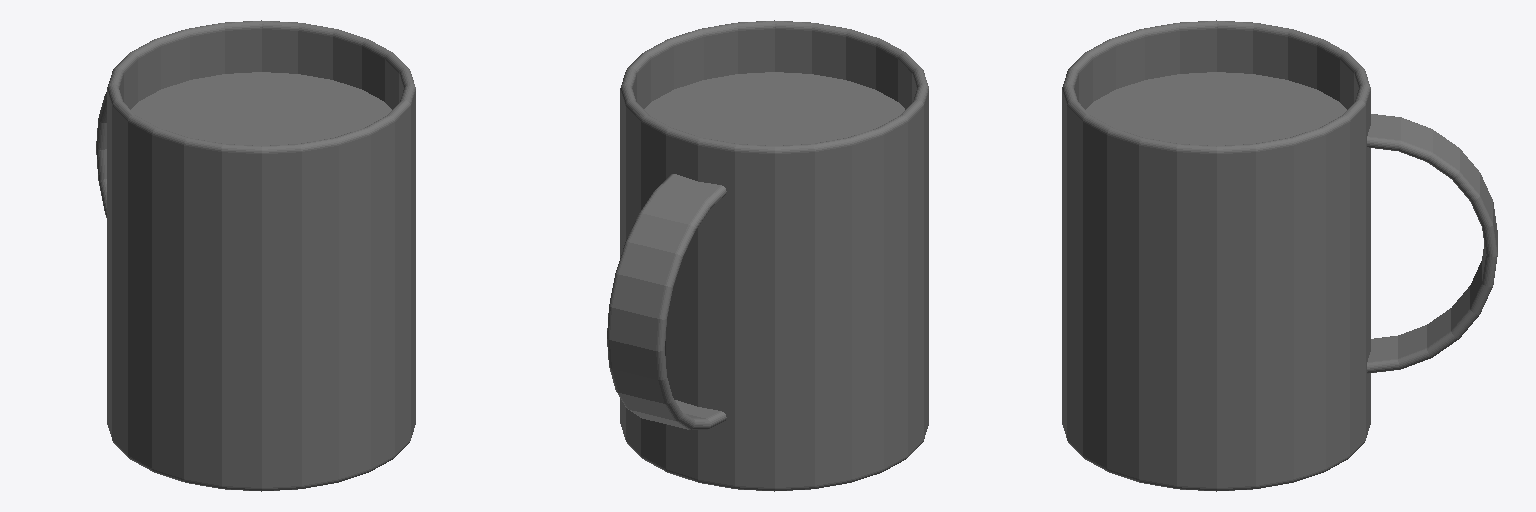
URDF robot description (object):
<?xml version="1.0"?>
<robot name="object">
  <link name="object">
    <visual>
      <origin xyz="0 0 0"/>
      <geometry>
        <mesh
          filename="../../mesh/oakink_virtual/mug_s115.stl" />
      </geometry>
      <material name="mat">
        <color rgba="0.5 0.5 0.5 1"/>
      </material>
    </visual>

    <collision>
      <origin xyz="0 0 0"/>
      <geometry>
        <mesh
          filename="../../mesh/oakink_virtual/mug_s115.stl" />
      </geometry>
    </collision>
  </link>
</robot>

--- Facts derived from the render (not from the file) ---
Views: 3 orthographic renders of the robot side by side, from view 1: azimuth 30°, elevation 25°; view 2: azimuth 150°, elevation 25°; view 3: azimuth 270°, elevation 25°.
Model object with 1 links and 0 joints (none), rooted at object, posed all joints at 0.
Visible links, largest first — view 1: object; view 2: object; view 3: object.
Boxes of the visible links, bbox=[...] form: object: bbox=[96, 20, 415, 491]; object: bbox=[607, 20, 928, 491]; object: bbox=[1062, 20, 1497, 491].
Size in the robot's own frame: 0.0753 by 0.1063 by 0.0927 metres.
1 mesh visuals loaded from 1 distinct referenced files (1 binary STL).